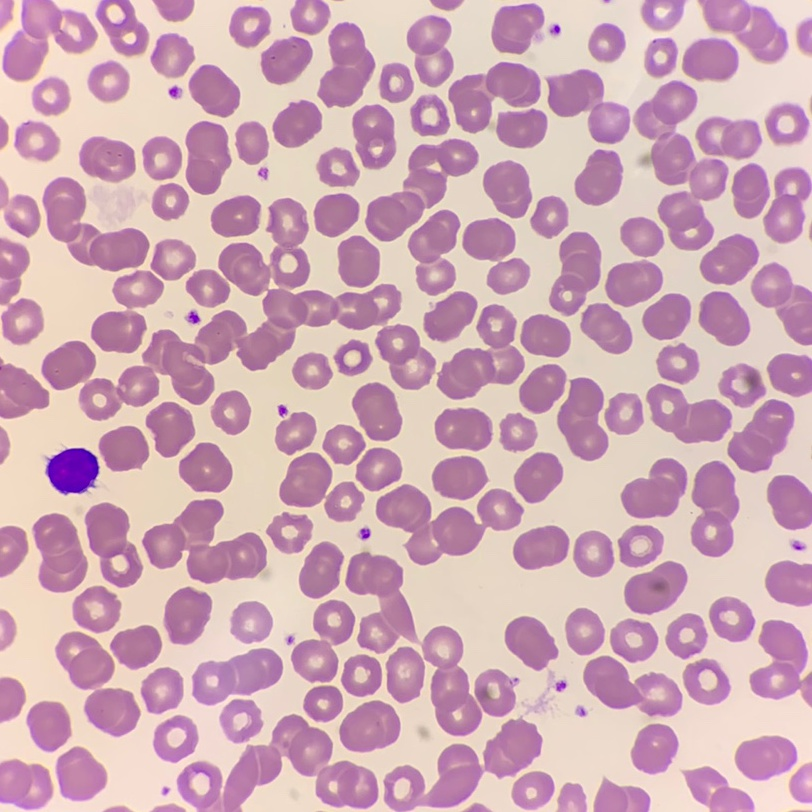RBC: (80, 199, 400, 419), (178, 715, 377, 811), (634, 81, 727, 249), (376, 485, 521, 563), (366, 139, 477, 240), (144, 499, 265, 582), (423, 627, 515, 735), (43, 177, 148, 270), (56, 632, 139, 735), (438, 305, 523, 398), (3, 0, 96, 80), (346, 552, 414, 652), (384, 744, 481, 811), (449, 62, 539, 131), (548, 69, 629, 143), (584, 656, 681, 715), (700, 0, 787, 62), (750, 620, 811, 702), (292, 600, 353, 681), (193, 649, 282, 704), (647, 385, 730, 442), (752, 264, 811, 344), (728, 400, 793, 471), (86, 503, 141, 586), (319, 23, 373, 106), (691, 461, 738, 556), (0, 239, 42, 343), (550, 232, 600, 314), (557, 378, 607, 459), (34, 514, 86, 591), (622, 458, 686, 517), (377, 325, 434, 388), (764, 168, 810, 242), (407, 16, 452, 86), (484, 720, 541, 775), (186, 122, 230, 193), (625, 562, 686, 613), (340, 701, 399, 751), (685, 767, 752, 811), (97, 0, 148, 55), (280, 453, 331, 506), (701, 235, 757, 283), (353, 383, 400, 440), (505, 617, 557, 668), (56, 747, 106, 800), (696, 117, 760, 158), (735, 736, 796, 779), (409, 210, 458, 263), (699, 292, 748, 345), (164, 588, 211, 643), (353, 105, 394, 168), (189, 65, 239, 116), (146, 402, 193, 456), (484, 162, 530, 217), (492, 4, 543, 53), (42, 341, 94, 389), (0, 365, 48, 417), (179, 443, 231, 491), (0, 760, 52, 808), (424, 292, 475, 340), (575, 150, 620, 204), (80, 137, 134, 181), (606, 262, 661, 305), (299, 542, 342, 597), (582, 304, 631, 352), (514, 453, 562, 502), (767, 475, 811, 528), (261, 37, 311, 83), (46, 448, 98, 492), (683, 38, 737, 80), (514, 526, 568, 568), (435, 409, 491, 449), (519, 364, 565, 412), (433, 456, 485, 498), (92, 311, 145, 352), (273, 101, 321, 146), (632, 724, 677, 772), (100, 426, 148, 470), (463, 219, 514, 260), (73, 586, 119, 631), (27, 702, 70, 750), (338, 236, 379, 286), (643, 294, 689, 338), (765, 561, 811, 605), (112, 626, 160, 668), (683, 659, 728, 703), (610, 619, 657, 661), (521, 315, 569, 356), (732, 164, 769, 217), (387, 647, 423, 701), (709, 597, 753, 641), (154, 716, 197, 760), (212, 196, 259, 236), (497, 110, 546, 147), (720, 364, 763, 406), (357, 448, 400, 490), (152, 33, 193, 77), (315, 194, 358, 235), (768, 354, 811, 395), (142, 668, 182, 712), (573, 531, 612, 576), (766, 103, 808, 144), (619, 526, 662, 566), (666, 614, 706, 657), (566, 608, 603, 654), (152, 239, 194, 279), (114, 271, 162, 306), (594, 781, 649, 811), (15, 122, 58, 160), (221, 700, 260, 741), (143, 137, 181, 179), (268, 515, 311, 552), (342, 655, 381, 695), (212, 391, 249, 433), (230, 7, 269, 46), (89, 62, 128, 101), (276, 413, 315, 452), (232, 602, 271, 641), (621, 218, 662, 255), (512, 772, 553, 809), (324, 425, 363, 463), (658, 345, 698, 382), (187, 270, 228, 306), (411, 95, 448, 134), (605, 394, 642, 433), (487, 259, 529, 293), (318, 149, 357, 185), (326, 482, 362, 520), (5, 195, 39, 235), (531, 197, 566, 235), (0, 526, 27, 575), (589, 24, 624, 61), (304, 686, 342, 720), (236, 122, 267, 163), (642, 0, 684, 30), (33, 78, 68, 114), (293, 354, 330, 388), (291, 0, 329, 33), (380, 63, 412, 102), (501, 414, 535, 450), (152, 184, 187, 218), (417, 262, 454, 294), (645, 38, 676, 76), (335, 341, 370, 374), (0, 678, 24, 720), (790, 764, 811, 801), (155, 0, 193, 20), (558, 784, 585, 811), (0, 610, 15, 648), (797, 18, 811, 54), (0, 0, 12, 24), (433, 0, 460, 9), (0, 430, 8, 459), (0, 120, 7, 145), (0, 182, 7, 206), (155, 805, 180, 811), (469, 804, 485, 811), (170, 88, 180, 97), (188, 313, 197, 322), (111, 806, 125, 811), (550, 26, 558, 34), (360, 529, 368, 537)
